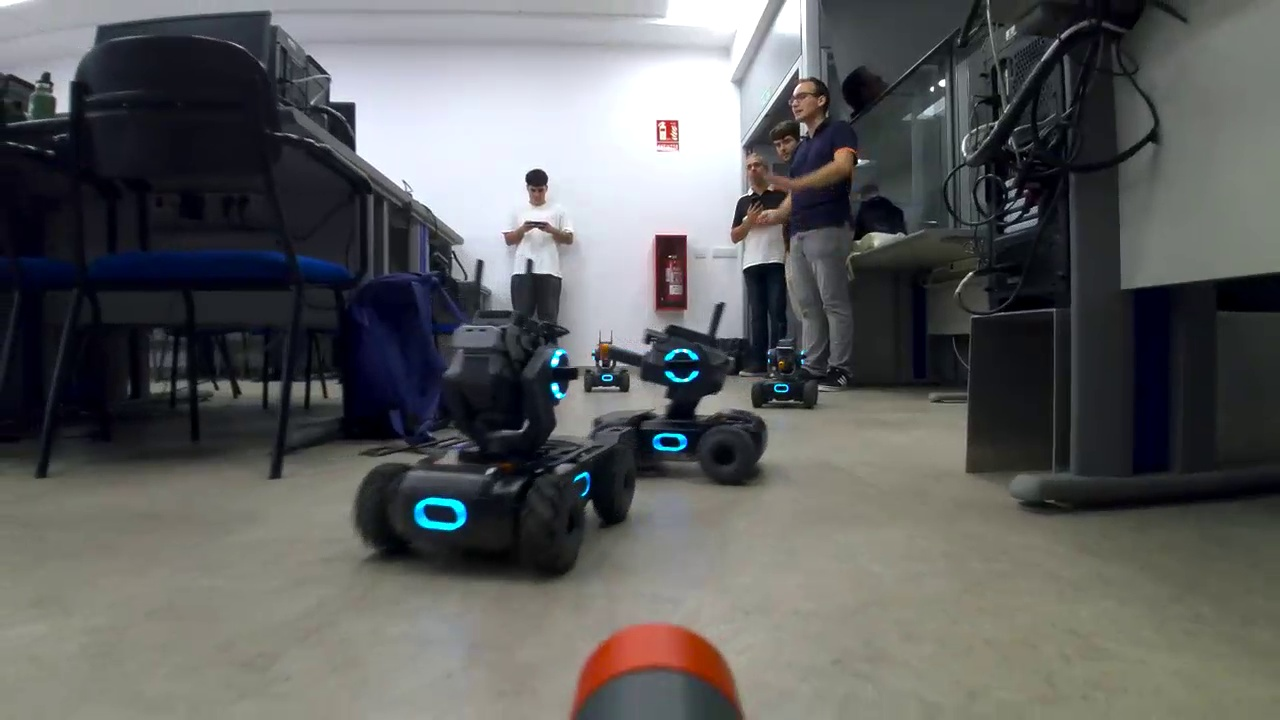robot: (347, 303, 645, 584), (584, 319, 770, 492), (747, 335, 820, 415), (581, 335, 634, 395)
